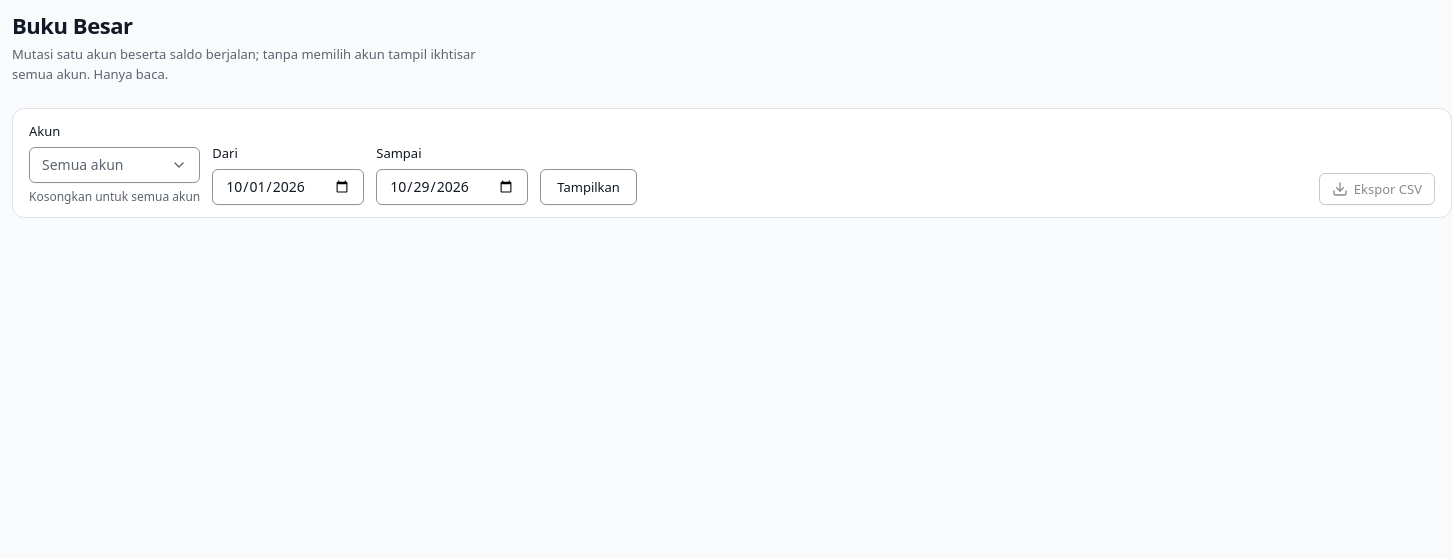
Buku besar semua akun (FN-08) › tanpa memilih akun menampilkan ikhtisar semua akun dengan saldo awal
Click the button "Tampilkan" at (589, 186), box [540,168,637,204]
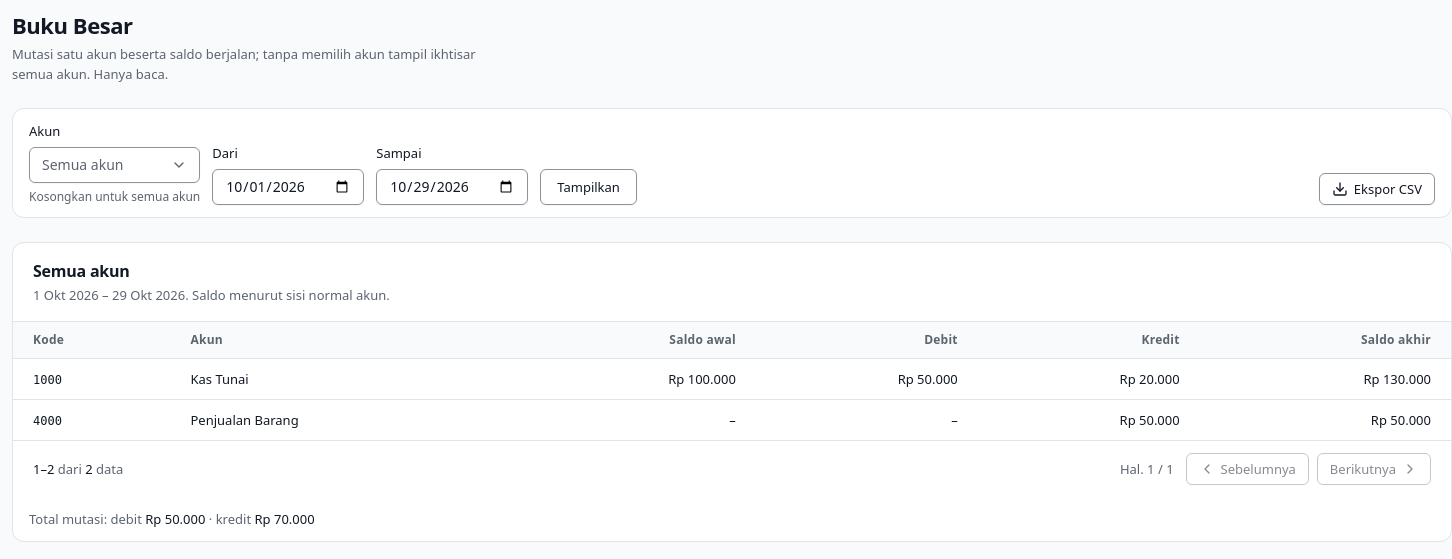
Expected: the text "Kas Tunai" is shown, [174,358,512,399]
Expected: the text "Penjualan Barang" is shown, [174,399,512,440]
Expected: the column heading "Saldo awal" is shown, [512,322,752,358]
